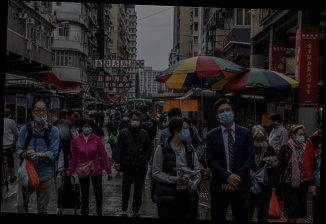mask_weared_incorrect: (32, 106, 48, 123)
with_mask: (217, 106, 234, 126), (178, 124, 191, 143), (294, 131, 305, 144), (130, 117, 141, 130), (253, 137, 265, 148), (80, 124, 92, 135), (269, 120, 276, 129), (122, 115, 129, 122), (73, 112, 79, 118)
without_mask: (110, 115, 116, 122)
